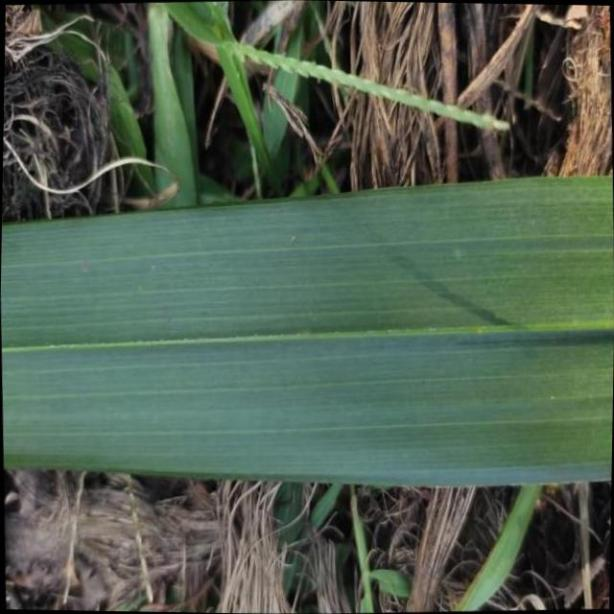Healthy: (0, 176, 614, 480)
